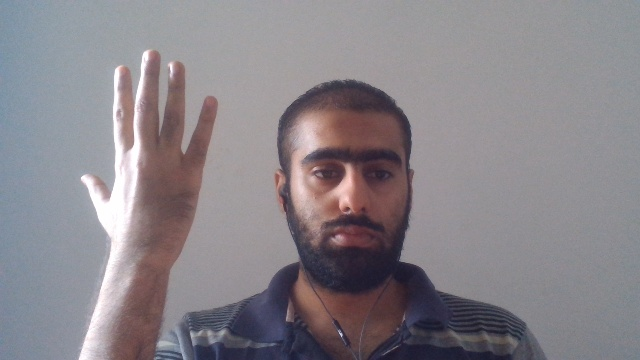paper: (79, 48, 220, 265)
